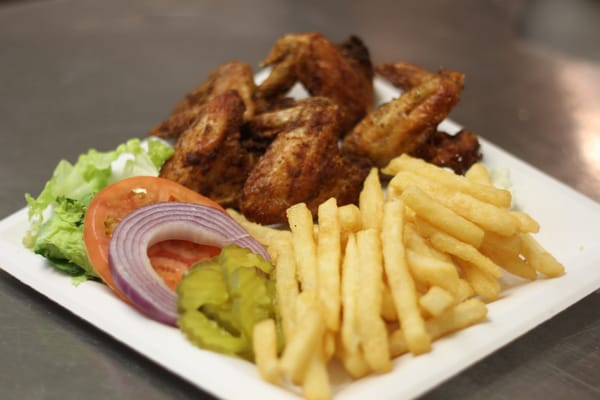curry: (21, 136, 176, 276)
